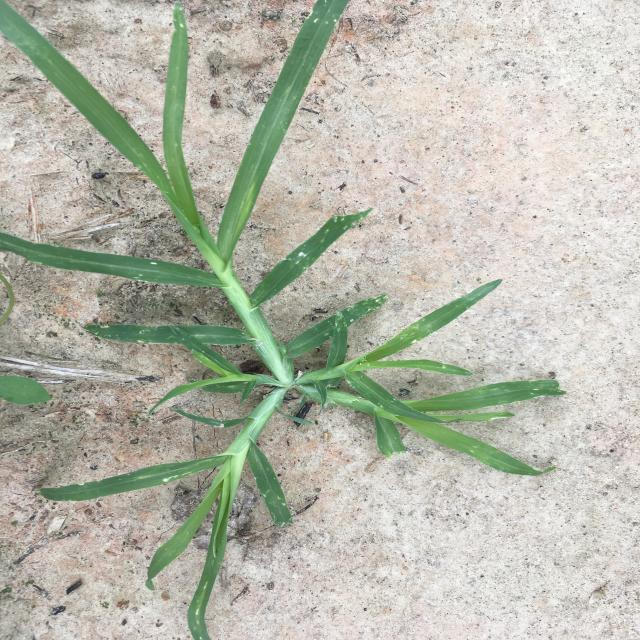Goosegrass: (1, 1, 567, 640)
